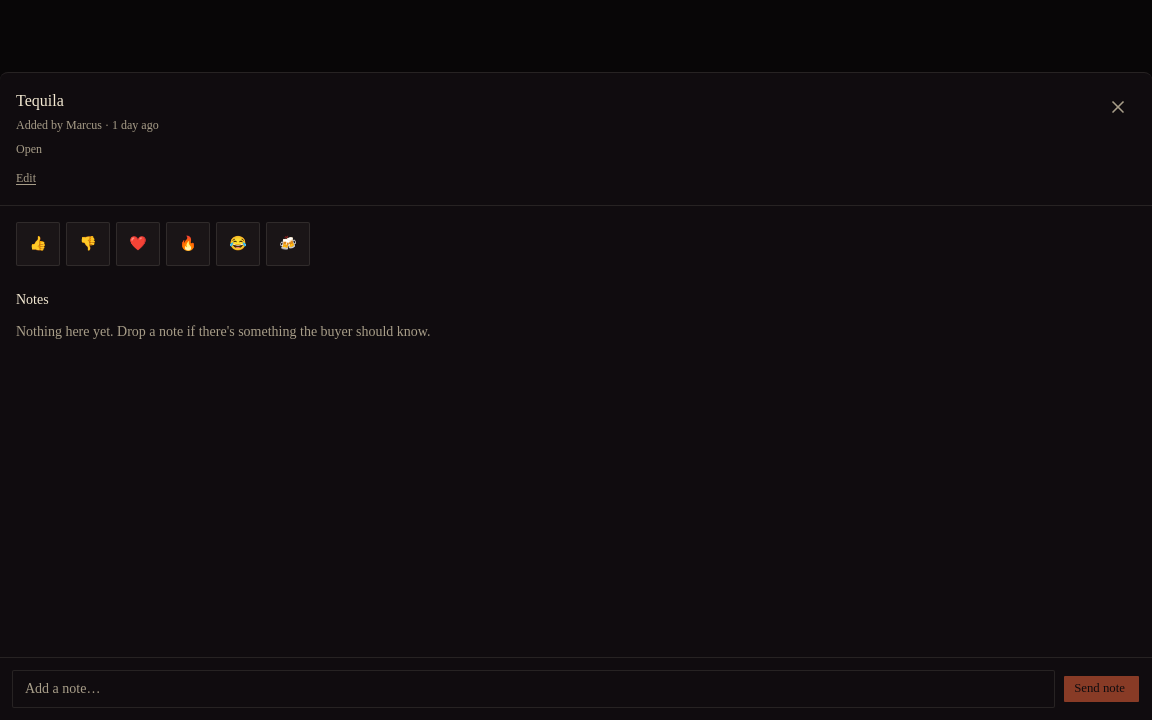
Scenario: <ShoppingItemSheet /> › (e) an rls_denied from a reaction toggle on an open item closes the sheet + surfaces shopping_item_gone
Click the button named "thumbs up" at (38, 244), box [16, 222, 60, 266]
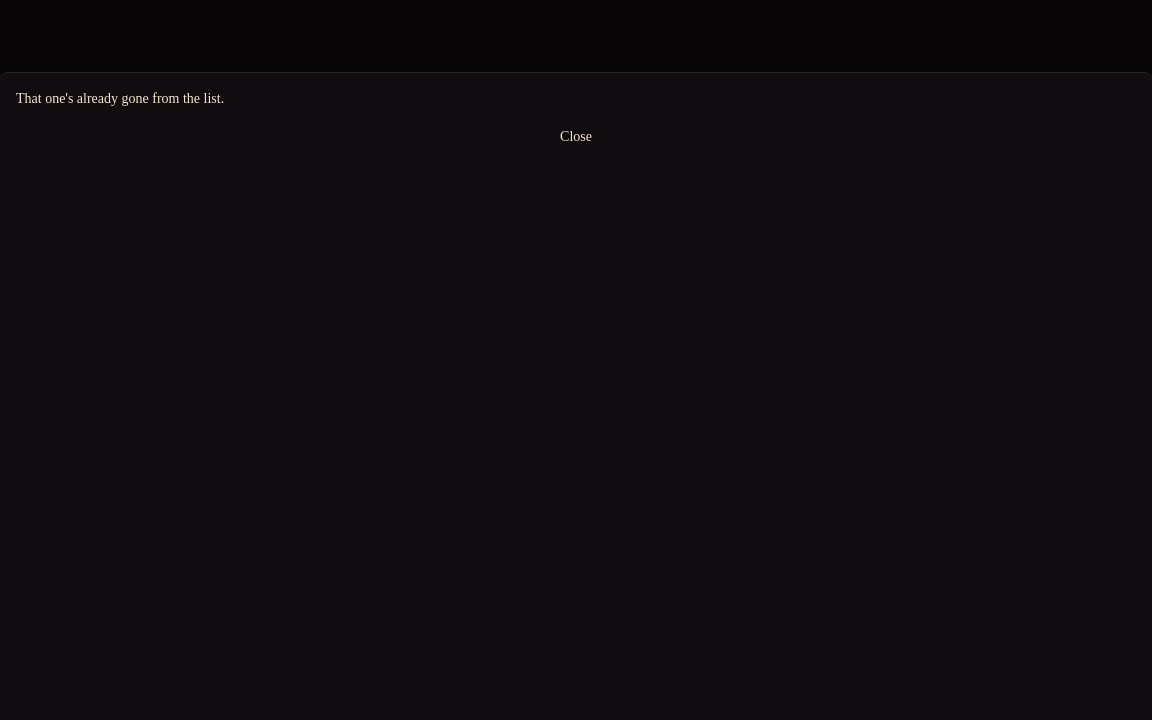
Now the message reads "That one's already gone from the list.", box [16, 91, 224, 106]
